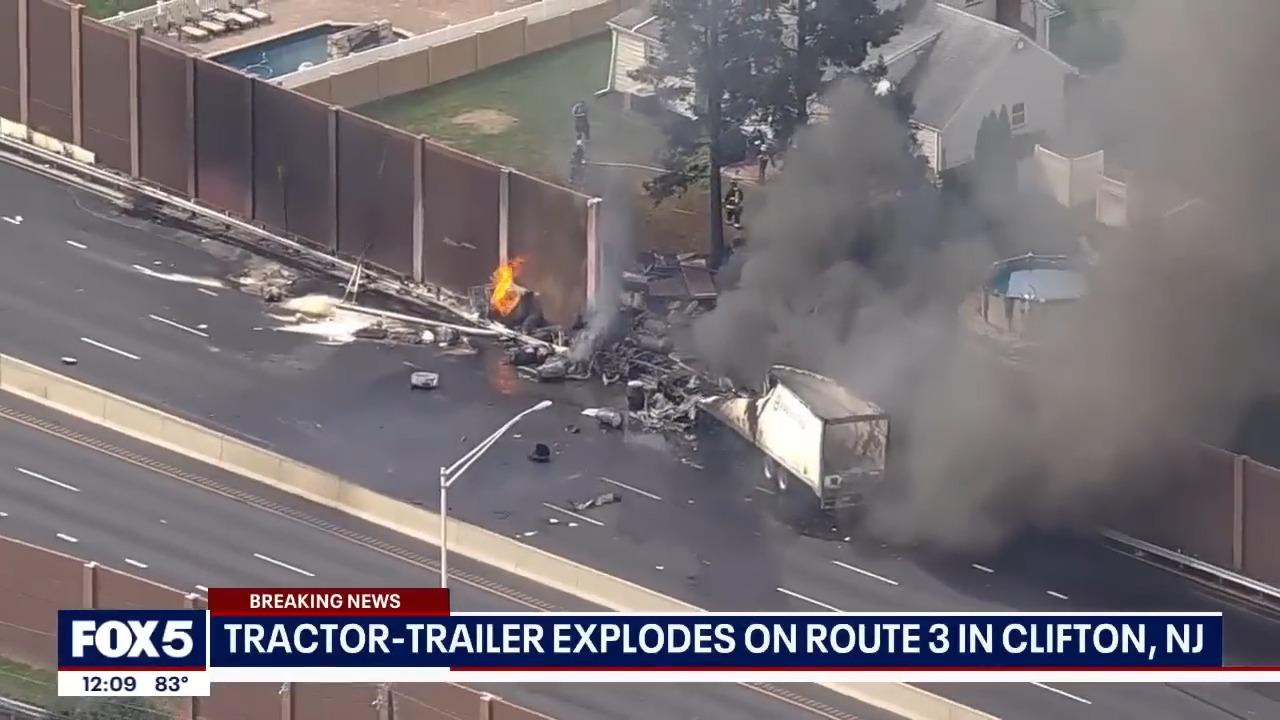fire: (480, 248, 530, 320)
